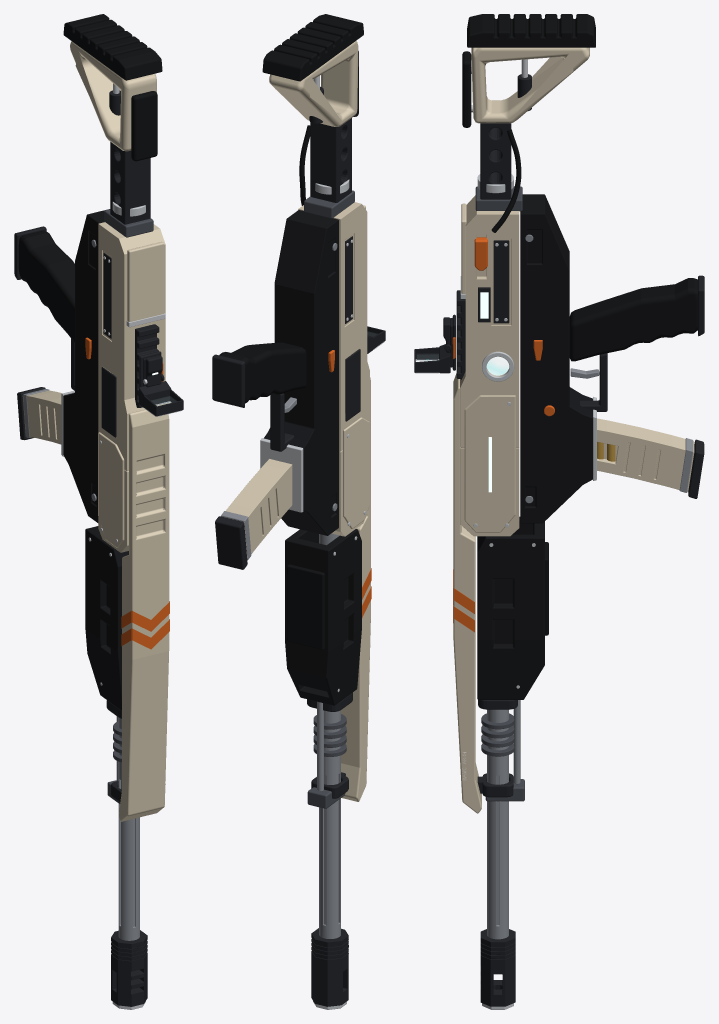
3 views of the same model, side by side, from view 1: azimuth 30°, elevation 25°; view 2: azimuth 150°, elevation 25°; view 3: azimuth 270°, elevation 25° (orthographic). The views are drawn at different scales.
Visible parts, largest first — view 1: top_shroud, lower, upper, handguard, grip, butt_pad, stock, barrel, top_cover, armor_r, stock_spine, muzzle (+10 smaller); view 2: lower, handguard, upper, stock, top_shroud, barrel, butt_pad, grip, magazine, stock_spine, handguard_grip, armor_r (+12 smaller); view 3: lower, handguard, upper, grip, armor_l, top_shroud, stock, magazine, butt_pad, barrel, muzzle, stock_spine (+6 smaller).
Part boxes in pixels (box(x1,y1,x2,y2)): top_shroud: box(119, 409, 169, 821); lower: box(63, 209, 109, 522); upper: box(98, 222, 168, 552); handguard: box(85, 526, 128, 710); grip: box(18, 231, 74, 342); butt_pad: box(63, 14, 162, 80); stock: box(70, 41, 156, 151); barrel: box(118, 718, 139, 940); top_cover: box(127, 241, 164, 321); armor_r: box(98, 432, 124, 547); stock_spine: box(110, 142, 150, 224); muzzle: box(111, 930, 147, 1006); lower: box(264, 210, 338, 535); handguard: box(285, 529, 361, 705); upper: box(298, 202, 369, 536); stock: box(269, 41, 358, 126); top_shroud: box(341, 377, 370, 801); barrel: box(319, 533, 340, 938); butt_pad: box(262, 14, 363, 81); grip: box(219, 342, 306, 403); magazine: box(226, 459, 292, 557); stock_spine: box(310, 118, 351, 202); handguard_grip: box(287, 564, 324, 649); armor_r: box(343, 417, 369, 528); lower: box(520, 194, 592, 523); handguard: box(477, 516, 544, 699); upper: box(460, 195, 519, 536); grip: box(569, 278, 697, 361); armor_l: box(464, 395, 515, 532); top_shroud: box(453, 373, 481, 813); stock: box(471, 47, 589, 123); magazine: box(597, 418, 694, 492); butt_pad: box(467, 14, 595, 47); barrel: box(487, 709, 508, 939); muzzle: box(480, 929, 515, 1006); stock_spine: box(480, 123, 511, 199).
Size of the model in its own units: 0.0522 by 0.9686 by 0.26.
